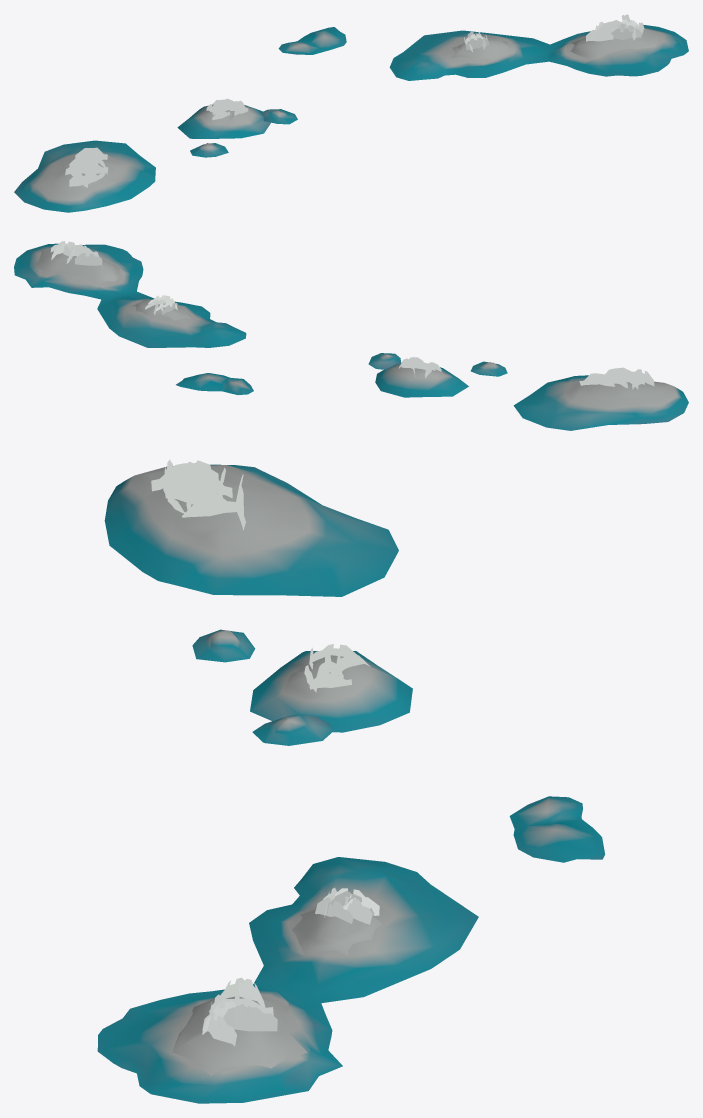
3 views of the same model, one above another, from view 1: azimuth 30°, elevation 25°; view 2: azimuth 150°, elevation 25°; view 3: azimuth 270°, elevation 25° (orthographic). The views are drawn at different scales.
Parts seen in each view (by area): view 1: G:\FFXIV-MapTools\exports\x6f1\bg\ex5\01_xkt_x6\fld\x6f1\bgp (×2); view 2: G:\FFXIV-MapTools\exports\x6f1\bg\ex5\01_xkt_x6\fld\x6f1\bgp (×2); view 3: G:\FFXIV-MapTools\exports\x6f1\bg\ex5\01_xkt_x6\fld\x6f1\bgp (×2).
Part boxes in pixels (<box>): G:\FFXIV-MapTools\exports\x6f1\bg\ex5\01_xkt_x6\fld\x6f1\bgp (×2): <box>14,14,688,212</box>; G:\FFXIV-MapTools\exports\x6f1\bg\ex5\01_xkt_x6\fld\x6f1\bgp (×2): <box>14,241,688,430</box>; G:\FFXIV-MapTools\exports\x6f1\bg\ex5\01_xkt_x6\fld\x6f1\bgp (×2): <box>97,459,605,1103</box>.
Size of the model in its own units: 788 by 35.18 by 263.
